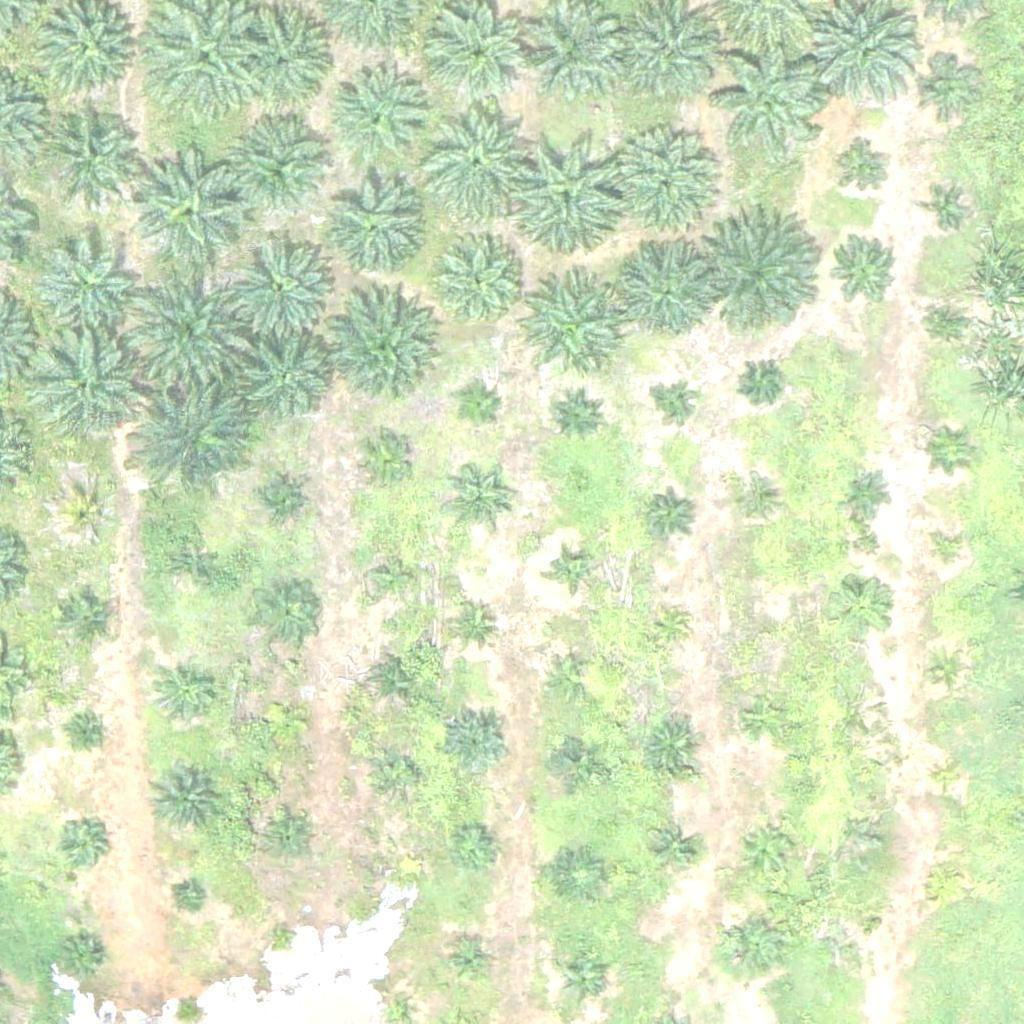Kelapa_Sawit: (507, 133, 632, 259), (415, 99, 540, 225), (125, 264, 250, 390), (133, 375, 258, 501), (703, 214, 828, 339), (324, 295, 437, 409), (715, 41, 828, 154), (604, 127, 717, 240), (33, 333, 146, 446), (225, 225, 337, 339), (135, 145, 247, 259), (812, 1, 924, 114), (513, 277, 625, 390), (614, 238, 714, 339), (620, 3, 720, 104), (519, 2, 619, 103), (429, 5, 529, 106), (428, 232, 528, 333), (329, 68, 429, 169), (231, 1, 331, 102), (37, 234, 137, 335), (321, 177, 421, 277), (234, 116, 334, 216), (43, 104, 143, 204), (243, 336, 331, 424), (147, 761, 222, 837), (827, 230, 902, 305), (445, 475, 508, 538), (351, 429, 414, 492), (718, 913, 781, 976), (447, 711, 510, 774), (914, 57, 977, 120), (362, 546, 425, 609), (255, 584, 317, 647), (155, 663, 217, 726), (642, 715, 704, 778), (736, 816, 798, 879), (832, 576, 894, 639), (159, 533, 221, 596), (554, 850, 604, 901), (552, 732, 602, 783), (372, 654, 422, 705), (841, 147, 891, 198), (448, 597, 498, 648), (373, 748, 423, 799), (252, 475, 302, 526), (261, 694, 311, 745), (449, 821, 499, 872), (647, 821, 697, 872), (559, 953, 609, 1004), (62, 592, 112, 642), (552, 390, 602, 440), (646, 488, 696, 538), (842, 467, 892, 517), (742, 692, 792, 742), (545, 652, 595, 702), (453, 385, 503, 435), (267, 815, 317, 865), (444, 938, 494, 988), (56, 821, 106, 871), (59, 935, 109, 985), (63, 492, 113, 542), (936, 432, 974, 470), (743, 360, 781, 398), (929, 533, 967, 571), (927, 652, 965, 690), (929, 759, 967, 797), (925, 859, 963, 897), (651, 606, 689, 644), (554, 551, 592, 589), (660, 386, 697, 424), (737, 484, 774, 522), (749, 613, 786, 651), (832, 911, 869, 949), (927, 194, 964, 231), (931, 304, 968, 341), (176, 884, 201, 910), (381, 995, 406, 1020), (269, 922, 294, 947), (77, 720, 102, 745)
